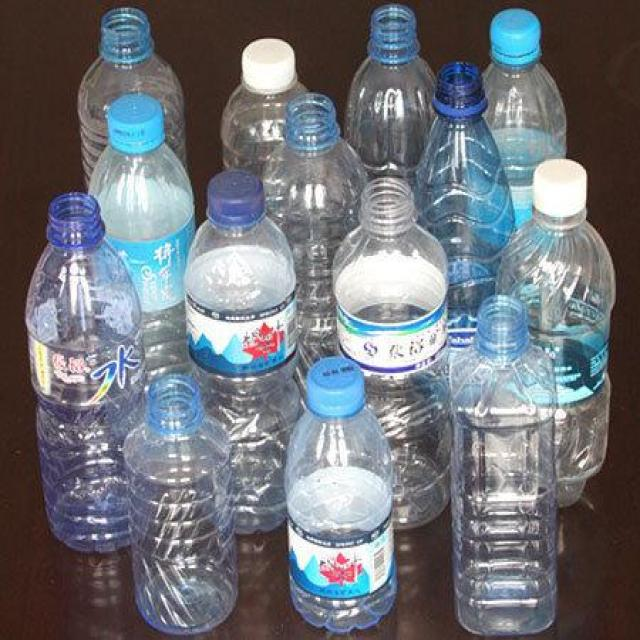bottle: (179, 160, 314, 538), (255, 86, 374, 488), (326, 174, 457, 528), (24, 190, 149, 551), (81, 94, 205, 452), (497, 152, 615, 508), (448, 292, 560, 638), (118, 364, 245, 635), (277, 357, 399, 637), (409, 56, 519, 313), (462, 4, 580, 202), (337, 0, 439, 197), (75, 4, 189, 174), (214, 32, 310, 164)
